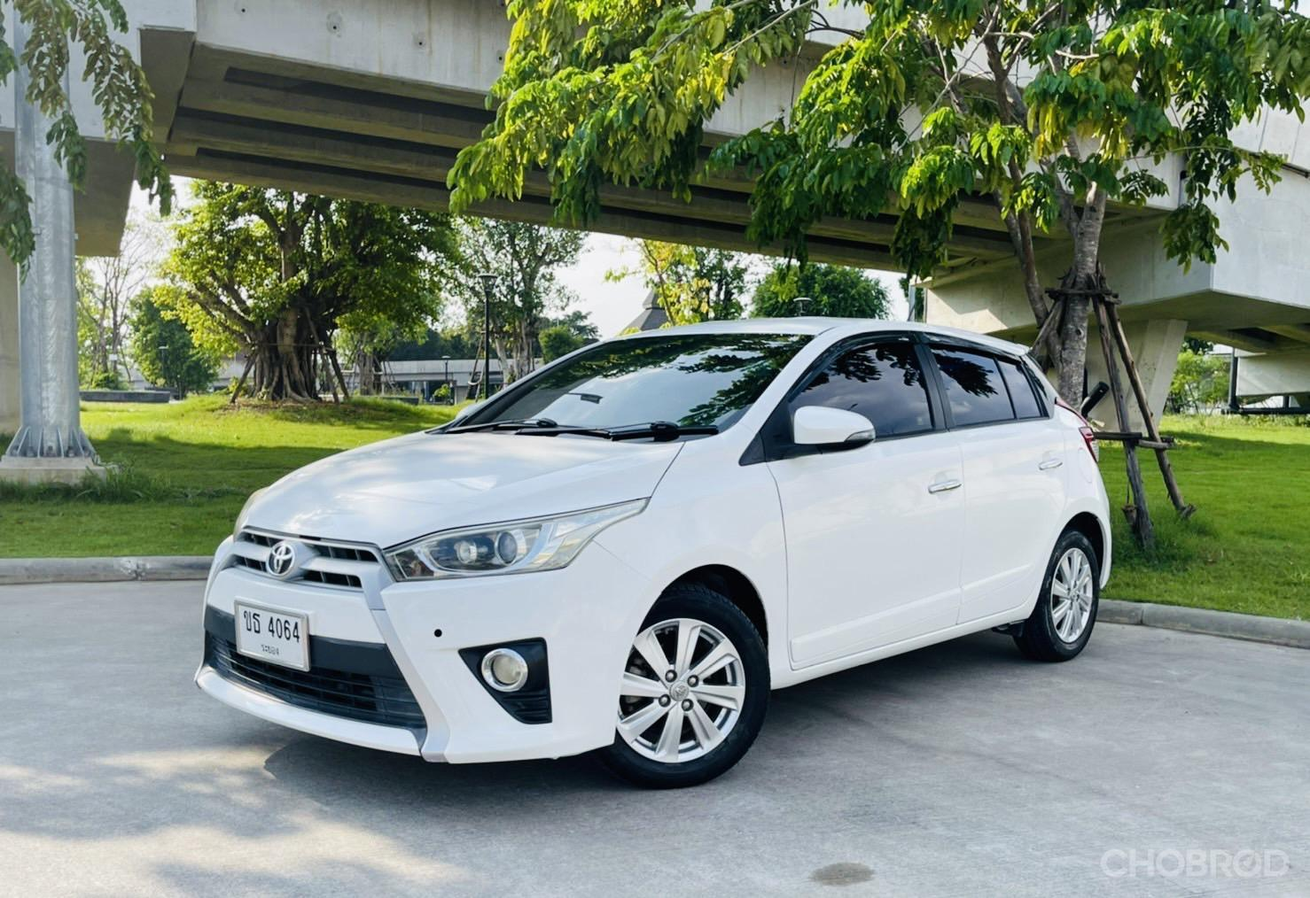license-plate: (232, 595, 314, 675)
